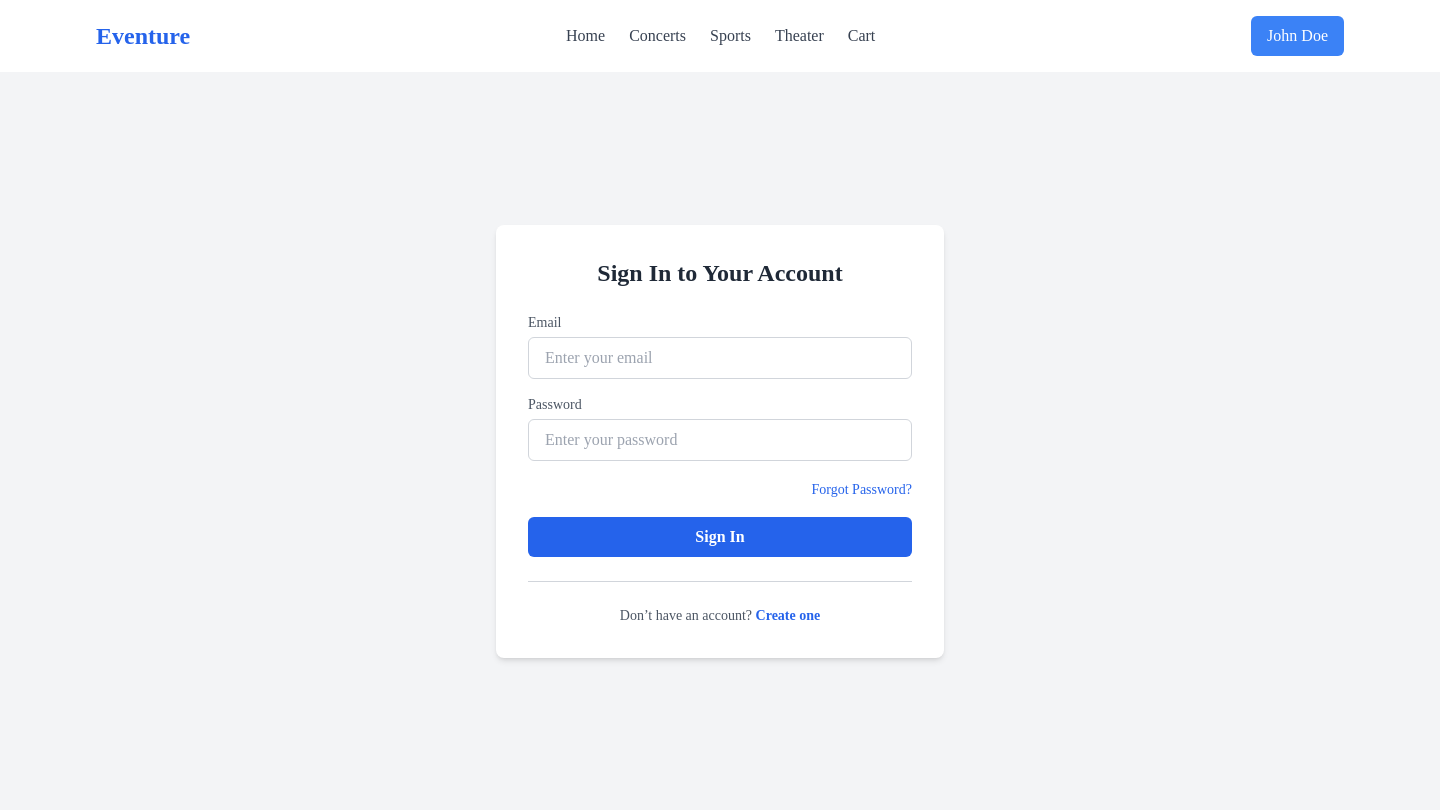
Test: LoginPage Component › handles sign-in failure
Type "wrong@example.com" into the field labelled "Email" at (720, 358), box x1=528 y1=336 x2=912 y2=378
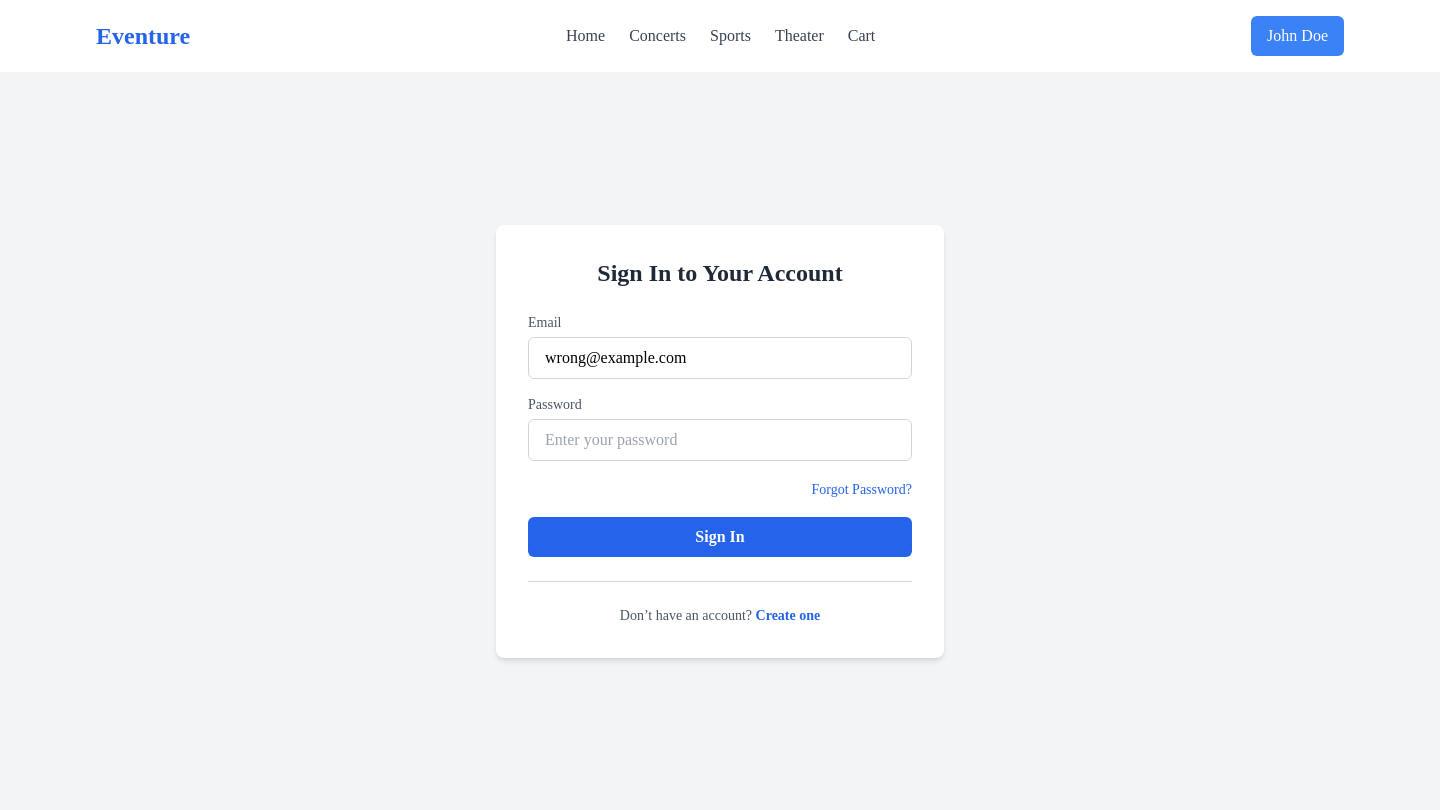
Type "wrongpassword" into the password field labelled "Password" at (720, 440), box x1=528 y1=418 x2=912 y2=460
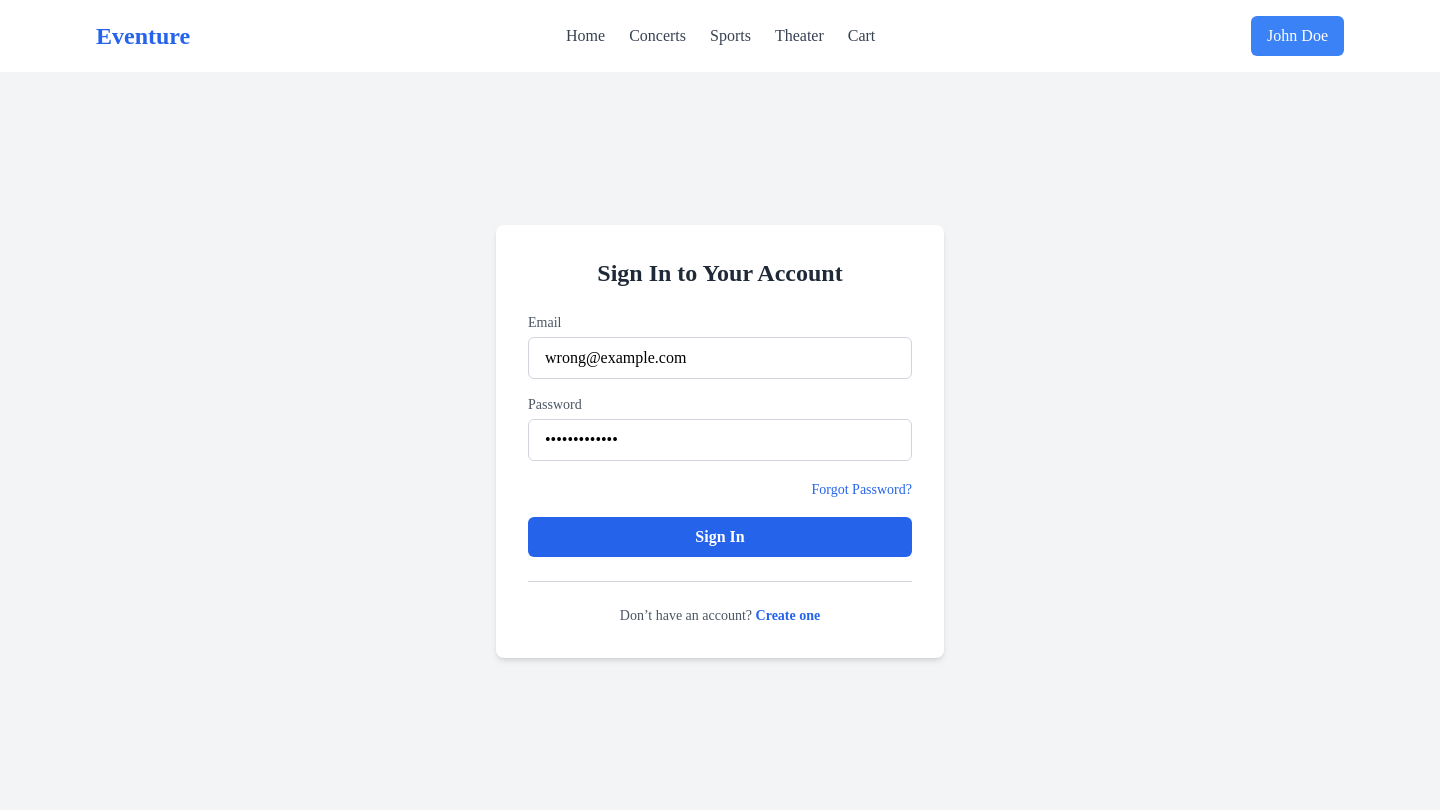
Click the button "Sign In" at (720, 536), box x1=528 y1=516 x2=912 y2=556
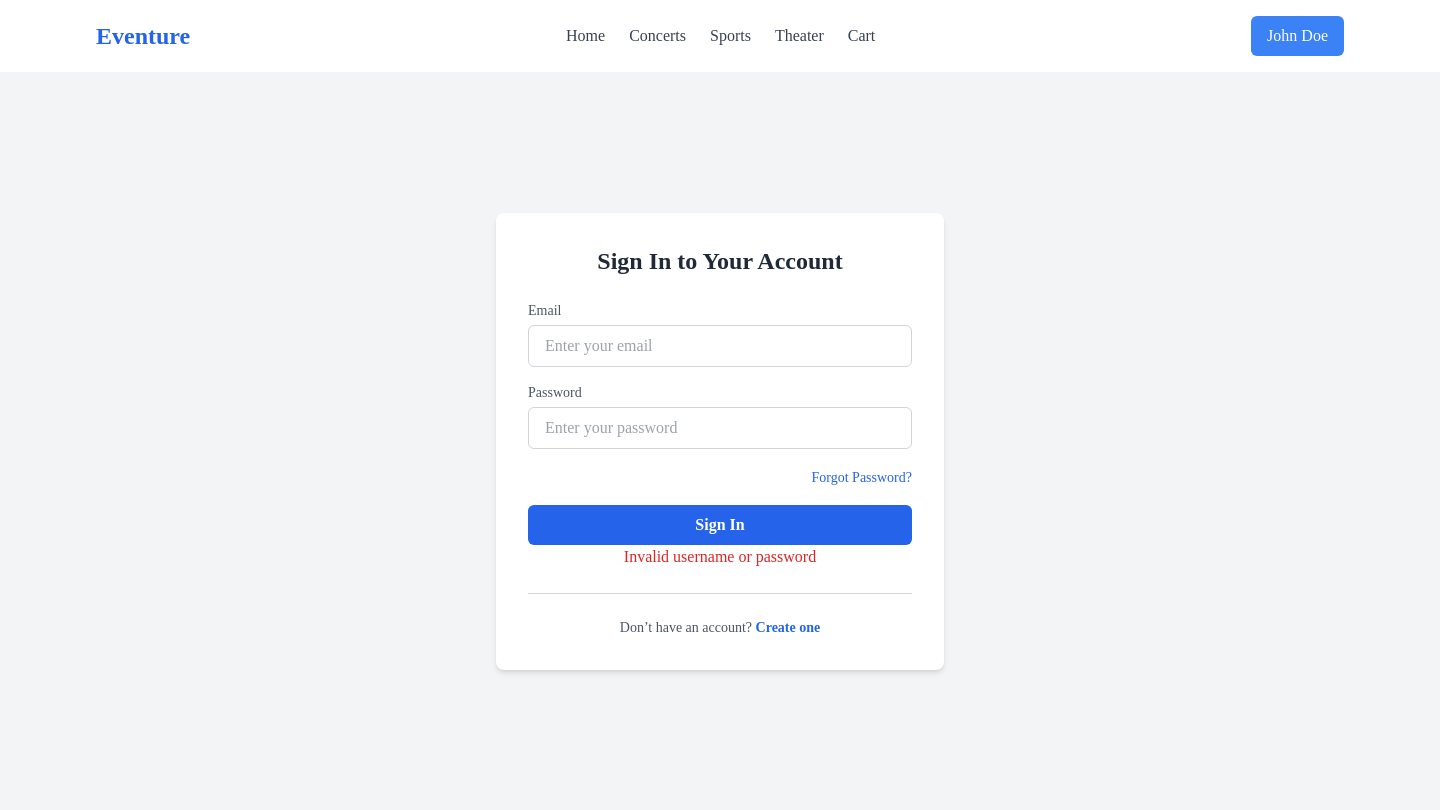
Now the text "Invalid username or password" is shown, box x1=624 y1=548 x2=816 y2=564
